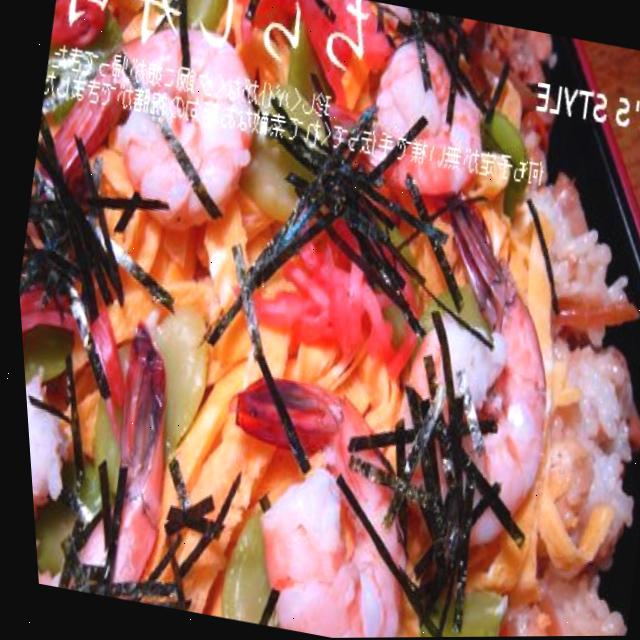寿司卷物: (7, 127, 640, 640)
